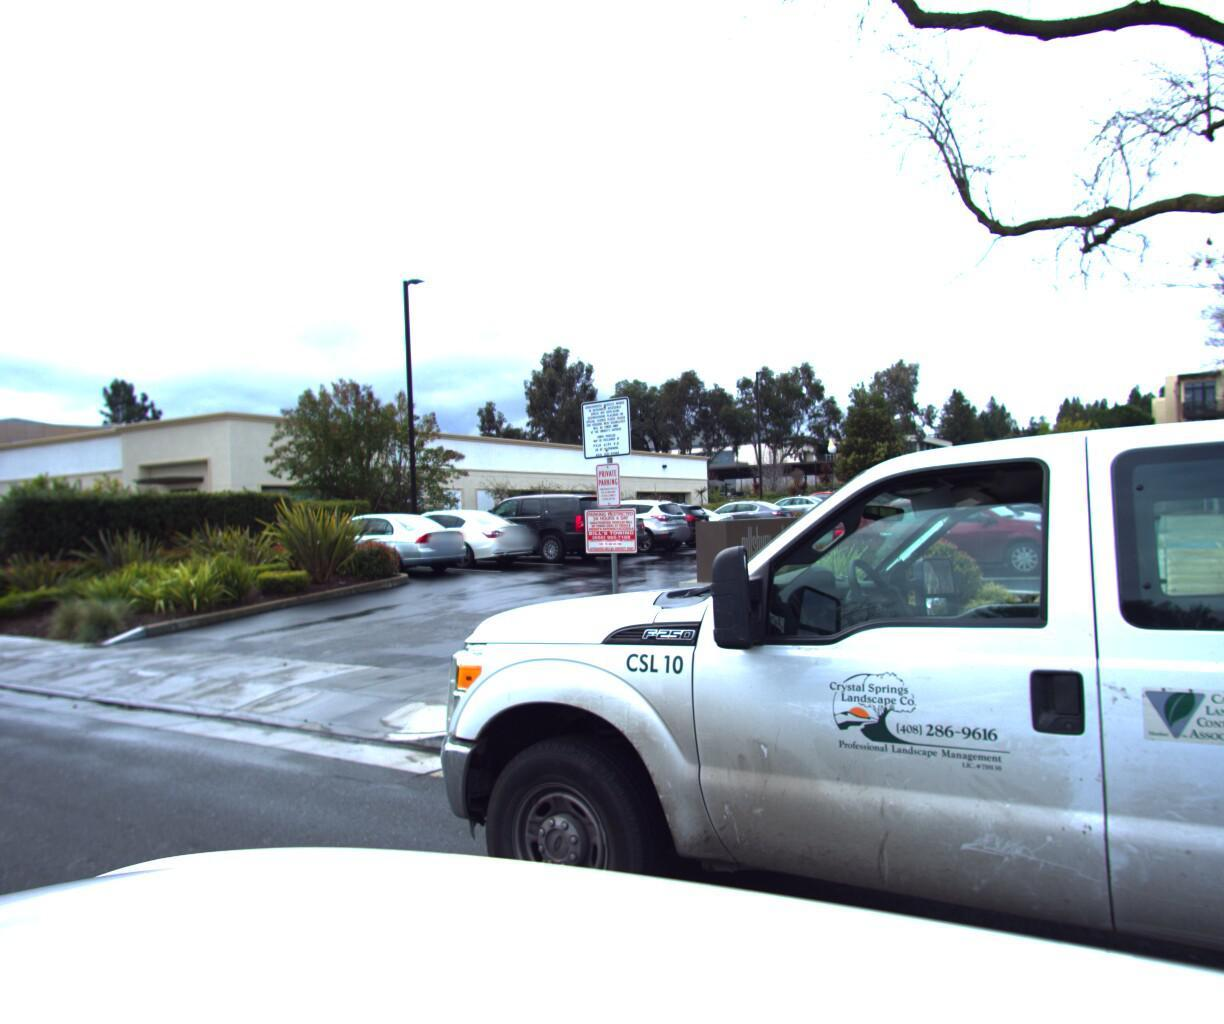car: (304, 505, 478, 574)
